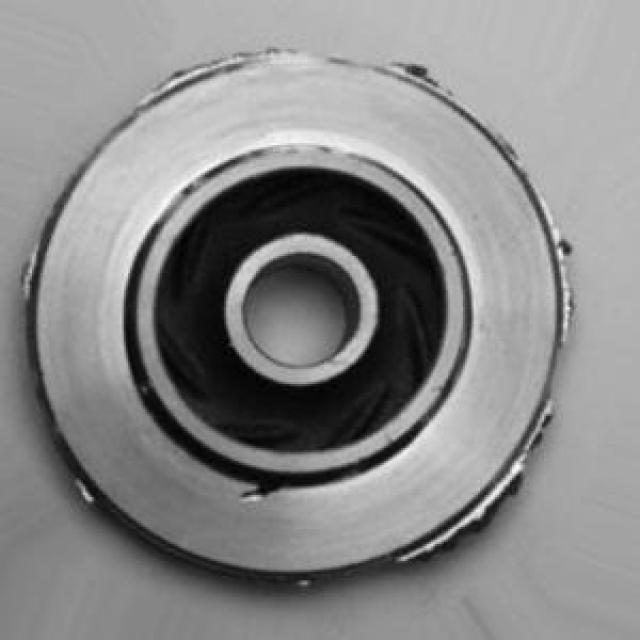Defect: (387, 51, 442, 98)
